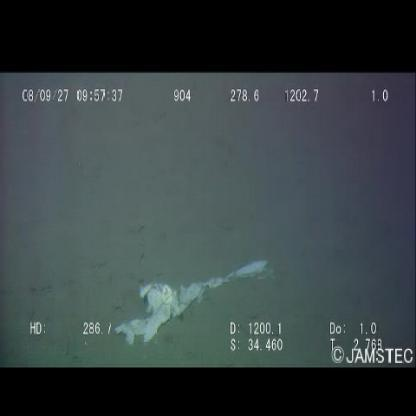Rác: (114, 260, 272, 344)
